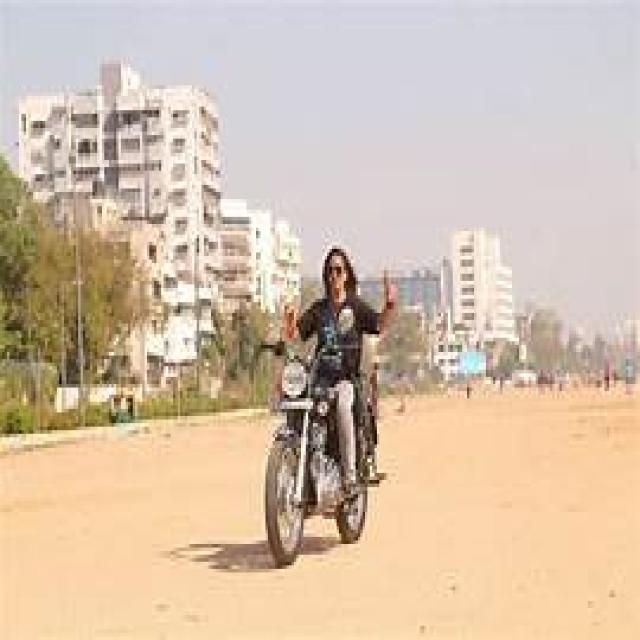Two Wheeler: (265, 345, 376, 565), (340, 315, 349, 329)
